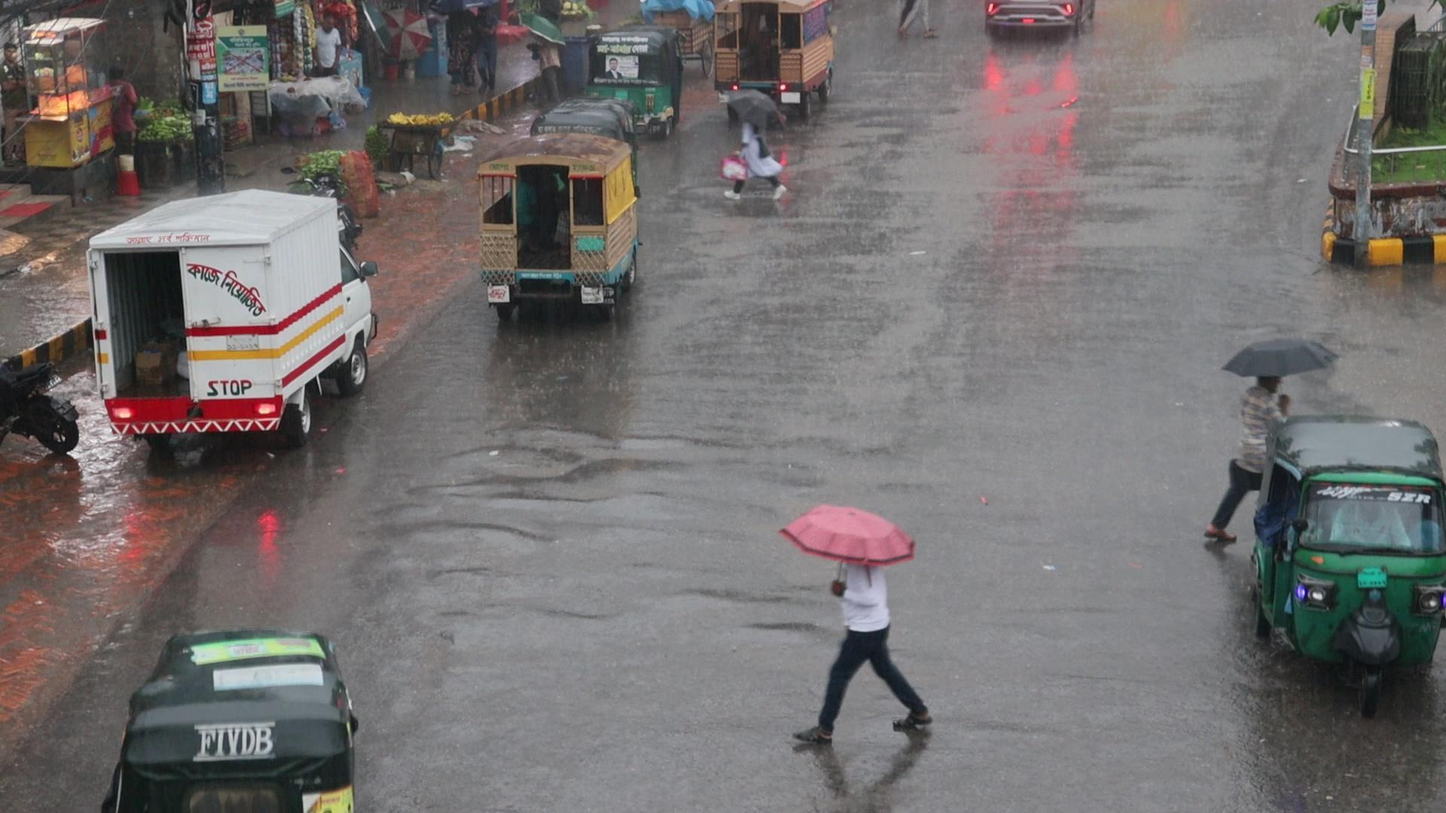Truck: (463, 134, 655, 330), (698, 0, 844, 117)
